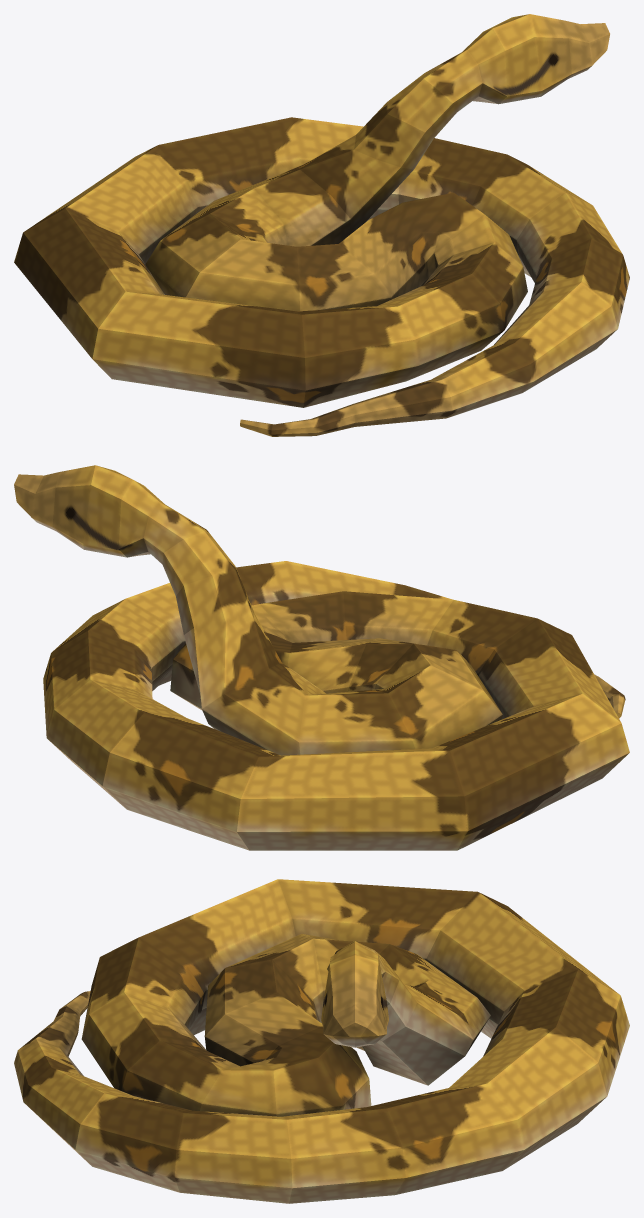
Rendered from rattlesnake.glb.
The picture shows the model from 3 angles, top to bottom: view 1: azimuth 30°, elevation 25°; view 2: azimuth 150°, elevation 25°; view 3: azimuth 270°, elevation 25°; orthographic projection. The views are drawn at different scales.
Parts seen in each view (by area): view 1: BushmasterSnake_mesh; view 2: BushmasterSnake_mesh; view 3: BushmasterSnake_mesh.
Part boxes in pixels (bbox=[...]): BushmasterSnake_mesh: bbox=[14, 14, 629, 436]; BushmasterSnake_mesh: bbox=[14, 465, 629, 850]; BushmasterSnake_mesh: bbox=[14, 879, 629, 1203].
Size of the model in its own units: 12.9 by 5.27 by 11.75.
1 material, 1 textured.
